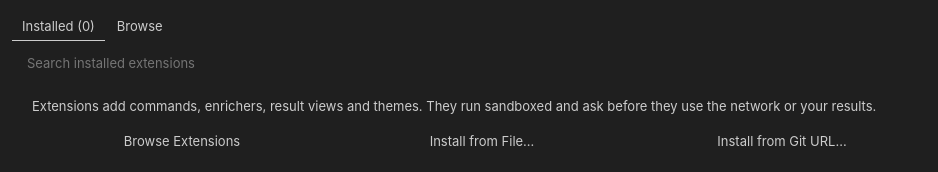
Browse extensions › explains when the catalog is turned off, and when it cannot be loaded
This screenshot has width=938, height=172.
Click the tab "Browse".
click(140, 26)  # box 107,12 -> 173,41
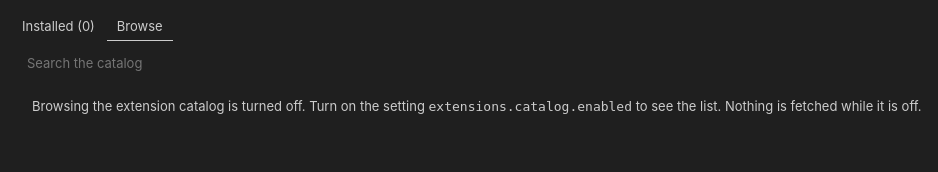
Check: the text "turned off" is shown, box 32,98 -> 425,114
Check: the text "extensions.catalog.enabled" is shown, box 428,99 -> 632,114
